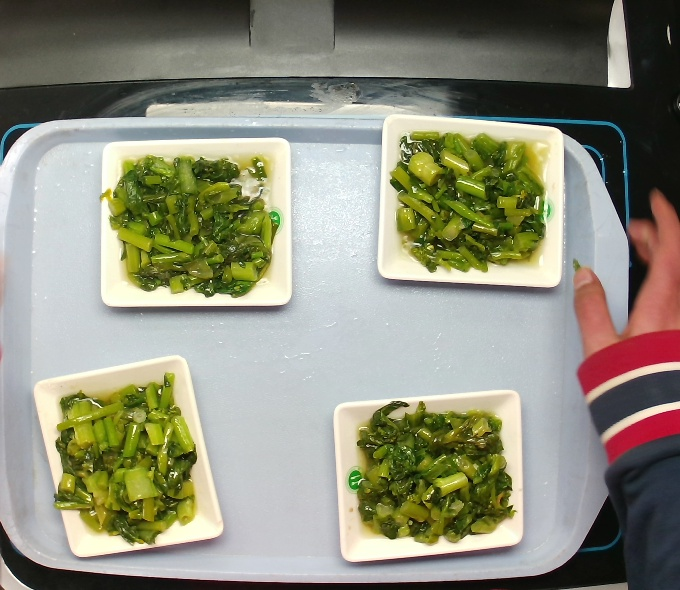wcq-YouCaiHua: (47, 366, 200, 552), (385, 122, 560, 284), (91, 149, 286, 294), (350, 397, 513, 552)
